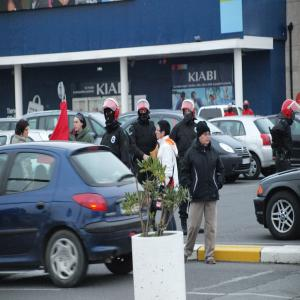Vehicle-registration-plate: (120, 204, 140, 214), (243, 159, 251, 165)
